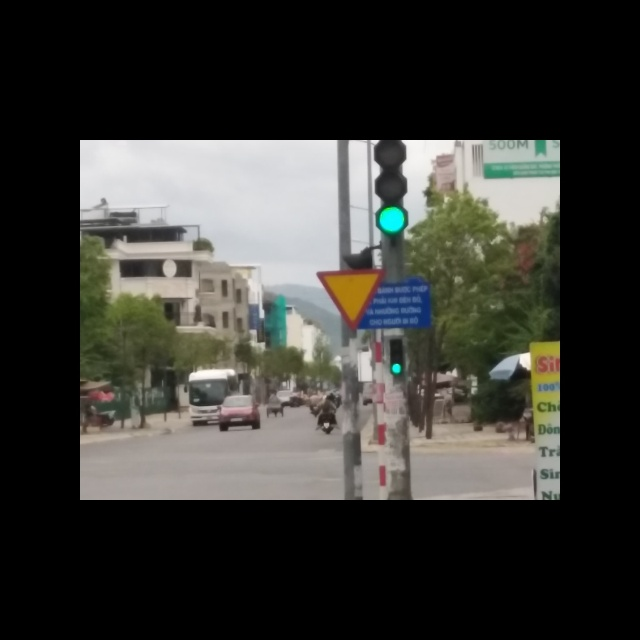Giao nhau với đường ưu tiên: (316, 271, 390, 333)
Đèn xanh: (379, 207, 406, 235)
